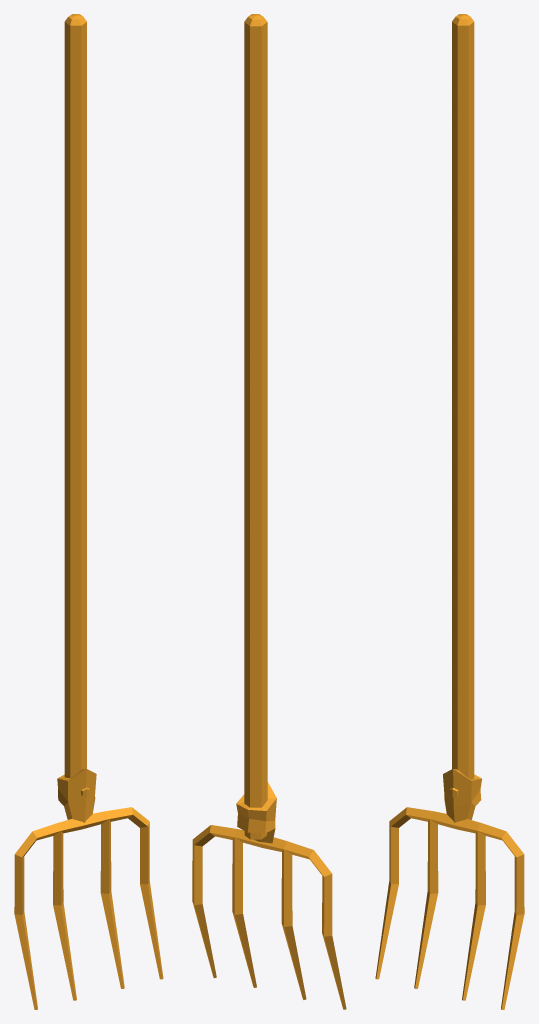
File: SM_Pitchfork.fbx
The picture shows the model from 3 angles, left to right: view 1: azimuth 30°, elevation 25°; view 2: azimuth 150°, elevation 25°; view 3: azimuth 330°, elevation 25°; orthographic projection. The views are drawn at different scales.
Visible parts, largest first — view 1: pitchfork; view 2: pitchfork; view 3: pitchfork.
Boxes of the visible parts, box(x1,y1,x2,y2) form: pitchfork: box(14, 14, 163, 1009); pitchfork: box(192, 14, 346, 1009); pitchfork: box(375, 14, 524, 1009).
Bounding box in the file's own units: 0.2321 × 1.58 × 0.0947.
